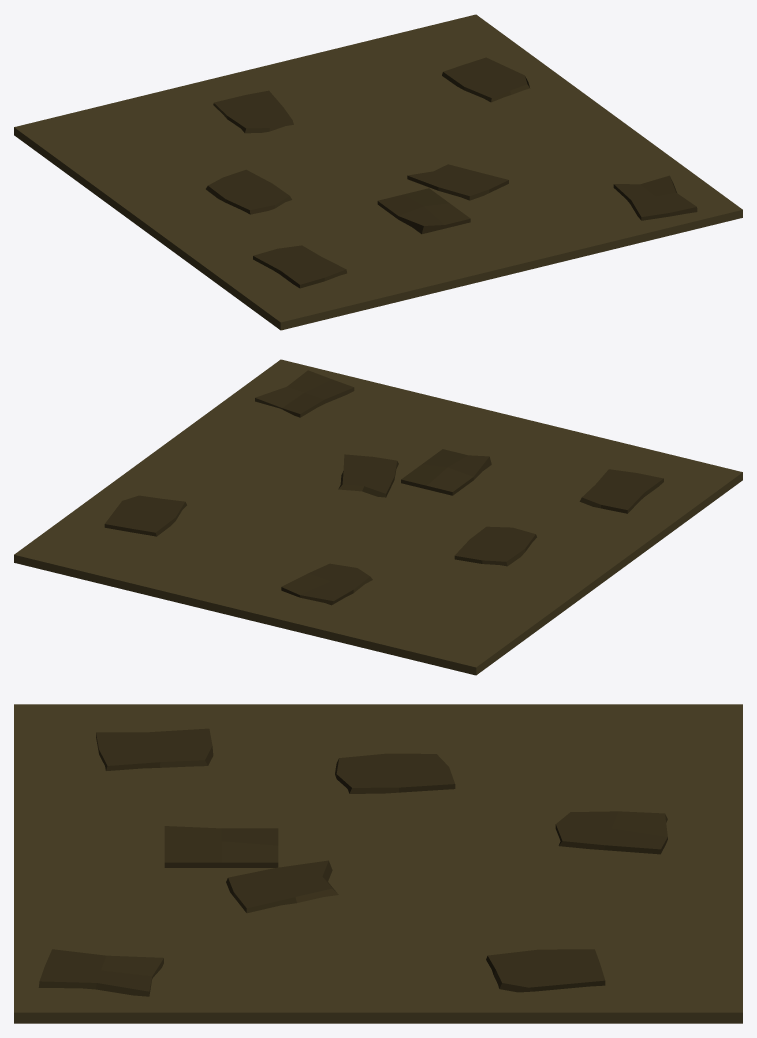
The model's file is floor_stone_brown.fbx.
3 views of the same model, one above another, from view 1: azimuth 30°, elevation 25°; view 2: azimuth 150°, elevation 25°; view 3: azimuth 270°, elevation 25° (orthographic). The views are drawn at different scales.
Visible parts, largest first — view 1: pref_floor_stone_brown; view 2: pref_floor_stone_brown; view 3: pref_floor_stone_brown.
Boxes of the visible parts, <box> form: pref_floor_stone_brown: <box>14,14,742,330</box>; pref_floor_stone_brown: <box>14,359,742,675</box>; pref_floor_stone_brown: <box>14,704,742,1023</box>.
Size of the model in its own units: 300 by 10.32 by 300.
